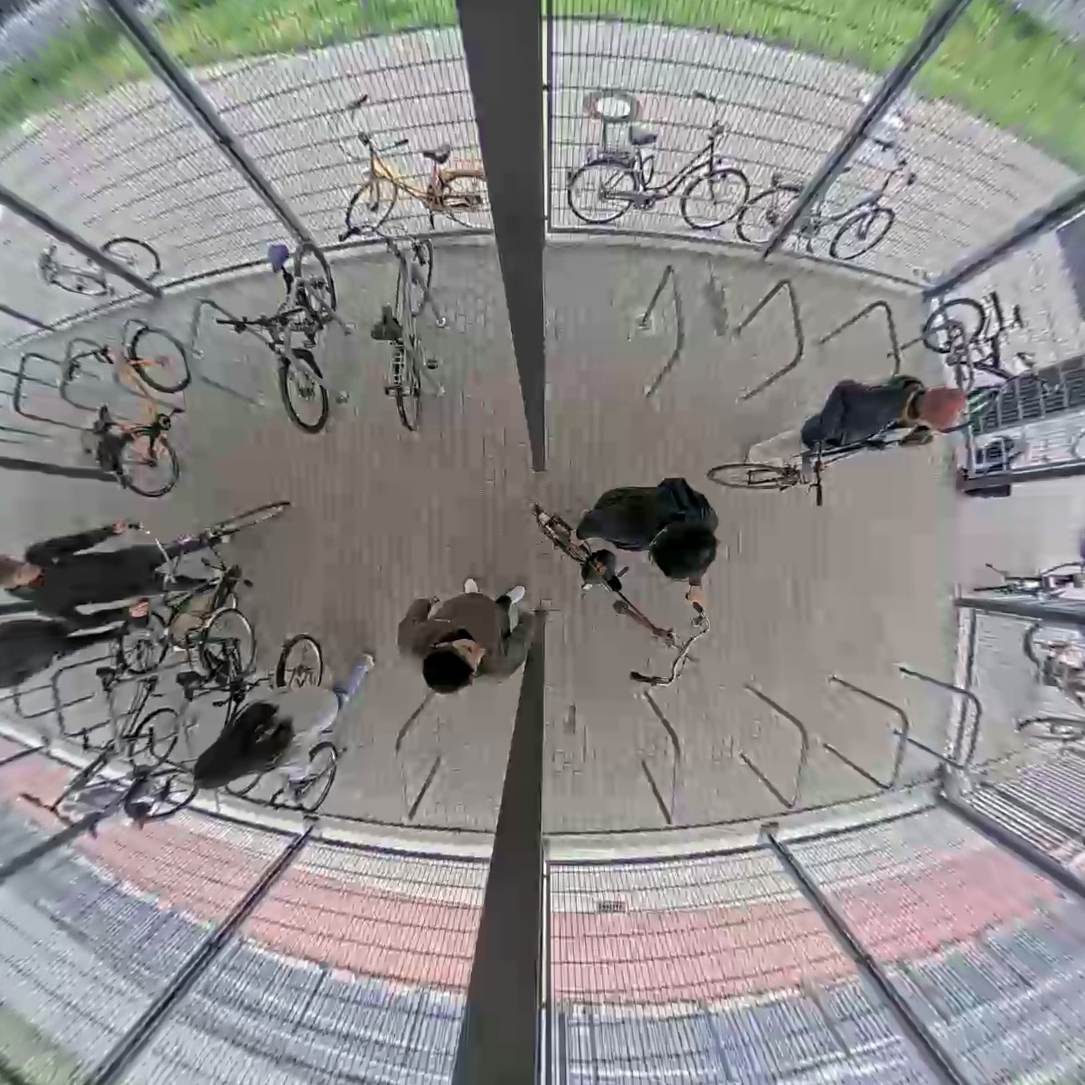bicylce: (534, 505, 700, 668), (186, 499, 289, 675), (267, 243, 336, 436), (113, 325, 187, 494), (279, 626, 343, 818), (708, 436, 919, 492), (376, 237, 435, 427), (110, 614, 177, 772), (55, 751, 200, 821), (931, 299, 999, 431)
saddle: (580, 547, 621, 591), (370, 303, 403, 338), (903, 423, 934, 451), (177, 669, 201, 702), (265, 245, 290, 272), (131, 597, 153, 627), (91, 404, 111, 434), (95, 665, 115, 693), (1012, 304, 1021, 327)
